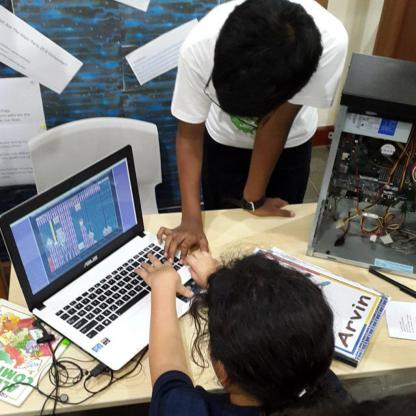board: (0, 142, 193, 370)
